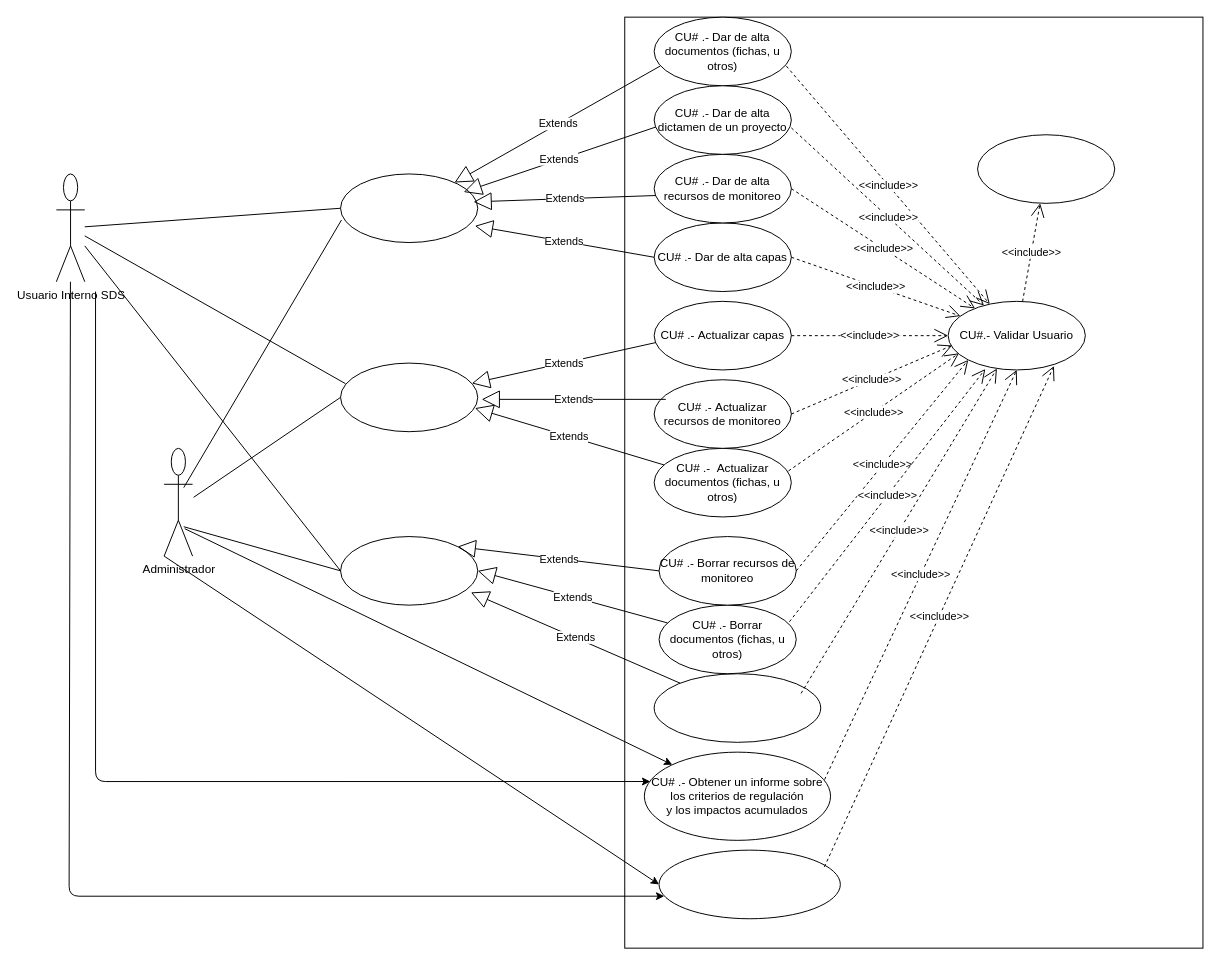
Some shapes in this 1220 by 965 pixel diagram are drawn without their labels. The shapes that lost their labels are listed below. From the top down, each one's centre as x and y in pixels, then its label:
point 1046,168: CU#.- Autenticar Usuario
point 409,208: CU# .- Dar de alta
point 409,397: CU# .- Actualizar
point 409,570: CU# .- Borrar
point 737,707: CU# .- Borrar proyectos en la base de datos de proyectos
point 749,884: CU# .- Modificar los datos de un proyecto
